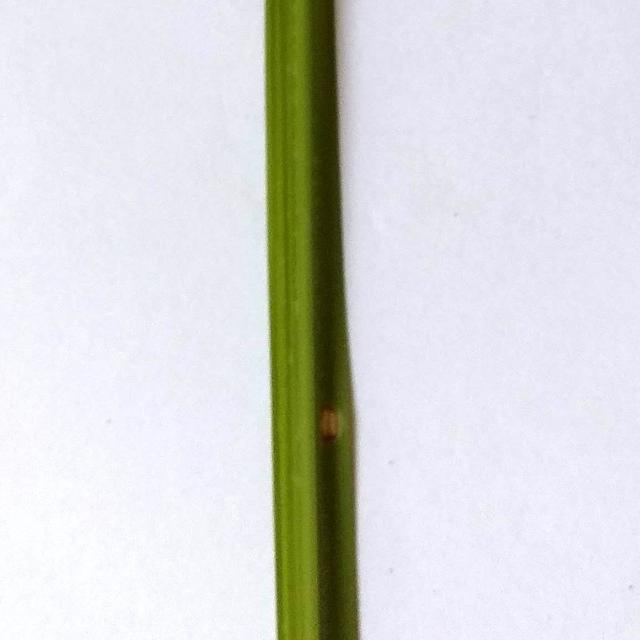Blast: (316, 406, 346, 444)
